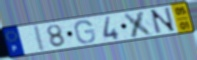4: (102, 16, 121, 41)
8: (45, 24, 67, 48)
G: (73, 19, 97, 45)
I: (34, 24, 48, 54)
N: (149, 6, 178, 36)
X: (121, 9, 156, 38)
